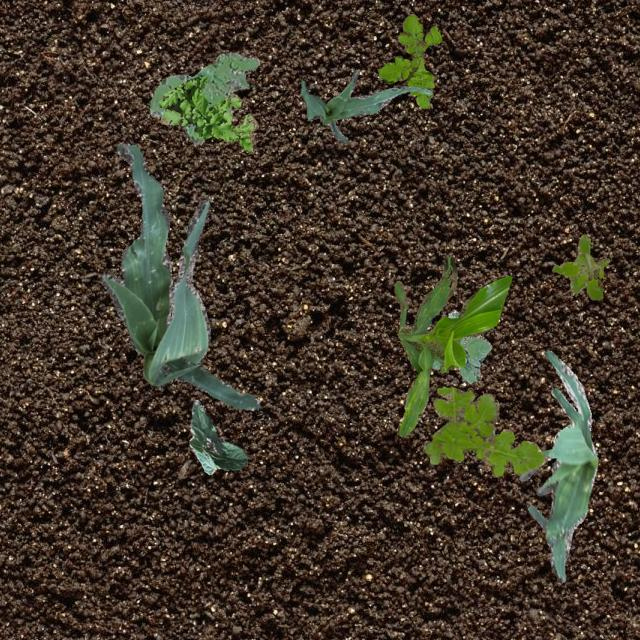crop: (99, 143, 259, 410), (393, 254, 511, 436), (518, 349, 598, 582), (299, 68, 432, 142), (188, 399, 246, 474)
weed: (424, 386, 546, 476), (148, 52, 258, 144), (158, 75, 258, 152), (378, 12, 440, 108), (430, 310, 490, 382), (550, 234, 608, 298)
